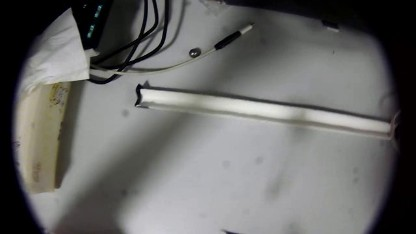gangzhu: (187, 46, 200, 58)
